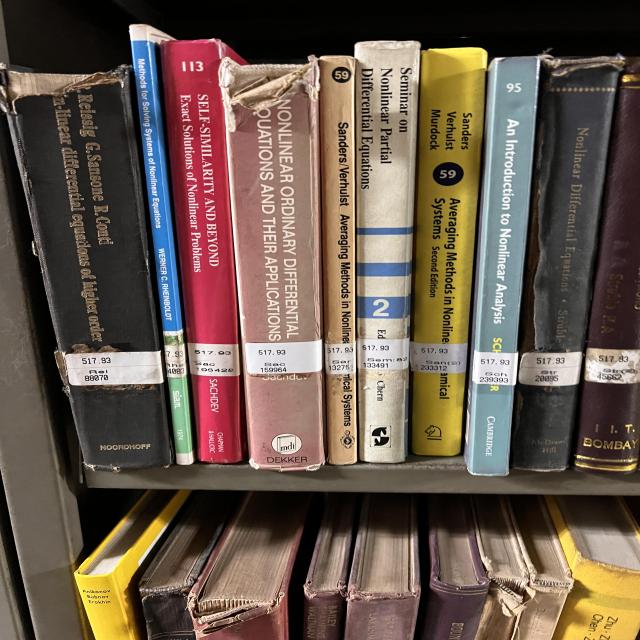Book: (3, 66, 172, 470), (512, 56, 623, 471), (220, 58, 325, 471), (162, 39, 245, 464), (410, 48, 487, 456), (465, 58, 540, 476), (573, 59, 640, 474), (130, 25, 193, 465), (355, 45, 418, 461), (318, 56, 358, 465)
Label: (63, 351, 163, 385), (245, 340, 322, 375), (518, 351, 582, 386), (585, 348, 640, 384), (410, 341, 468, 374), (187, 342, 240, 376), (358, 339, 410, 370), (472, 351, 518, 385), (163, 330, 187, 378), (325, 342, 357, 375)
